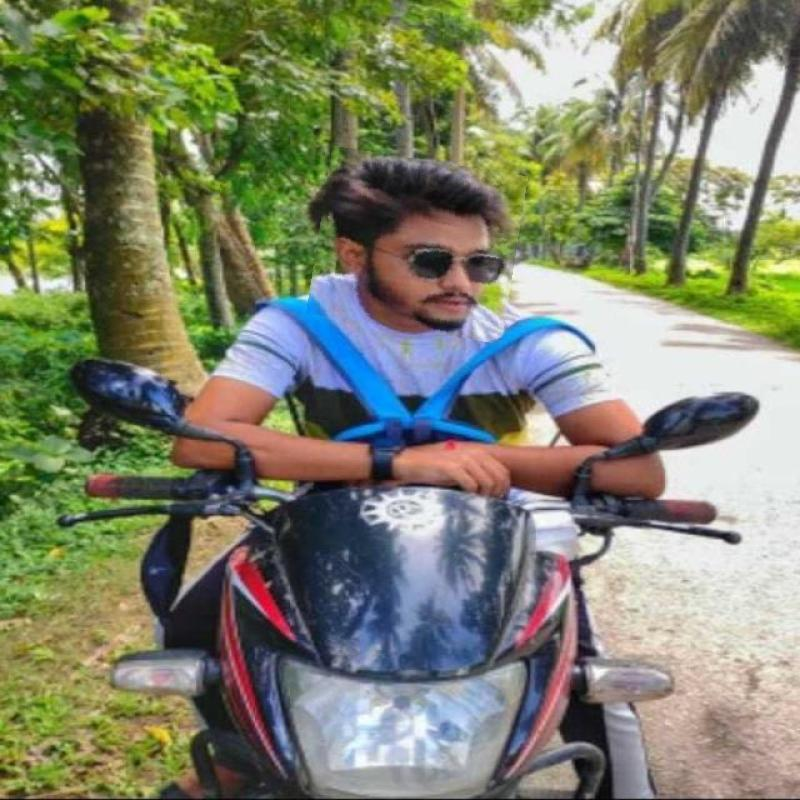nohelmet: (312, 154, 522, 336)
